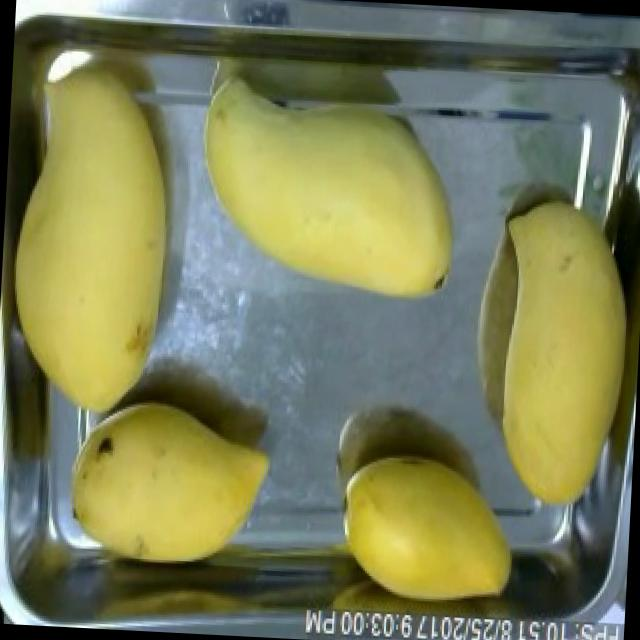fruit: (0, 33, 208, 435), (185, 80, 474, 310), (456, 181, 640, 525), (34, 374, 290, 602), (328, 441, 532, 618)
